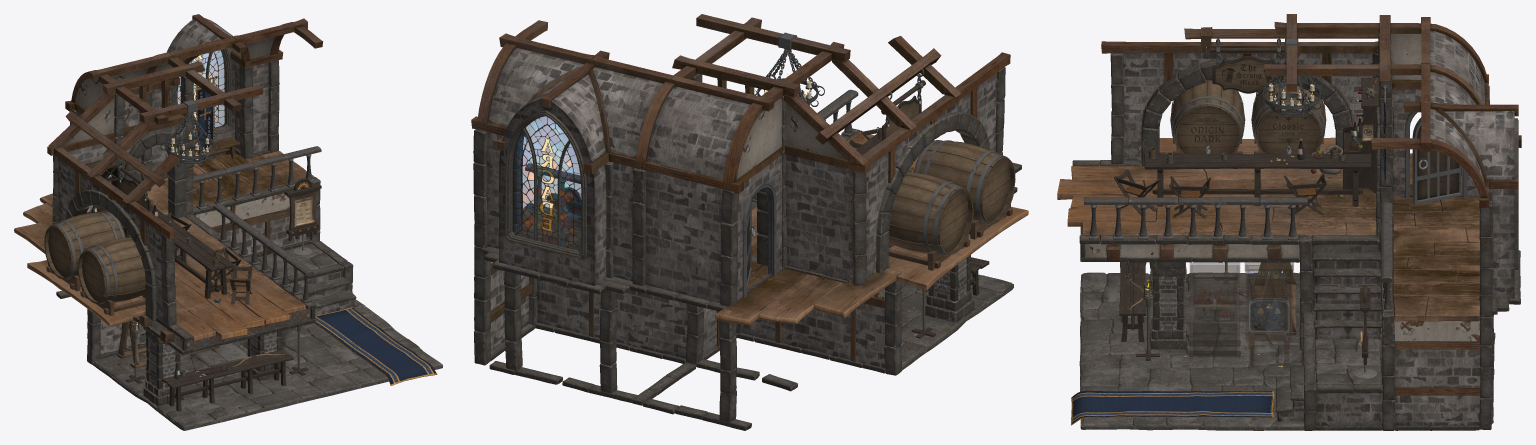
3 views of the same model, side by side, from view 1: azimuth 30°, elevation 25°; view 2: azimuth 150°, elevation 25°; view 3: azimuth 270°, elevation 25° (orthographic). The views are drawn at different scales.
Visible parts, largest first — view 1: main_walls_64, wood_connectors_68, wood_floor_66, floor_blocks_61, barrels_12, main_bricks_6, railing_60, carpet_10, duck_hunt_table_43, big_border_5, arc_big_1, table_35 (+14 smaller); view 2: main_walls_64, wood_connectors_68, main_bricks_6, barrels_12, wood_floor_66, big_border_5, window_65, window_border_62, arc_big_1, floor_blocks_61, Column.001_8, door_13 (+4 smaller); view 3: main_walls_64, wood_floor_66, floor_blocks_61, wood_connectors_68, main_bricks_6, barrels_12, stairs_63, big_border_5, carpet_10, railing_60, dragon_invaders_3, table_35 (+16 smaller).
Part boxes in pixels (x1,y1,x2,y2): main_walls_64: (58,18,442,430); wood_connectors_68: (47,14,323,349); wood_floor_66: (14,151,314,341); floor_blocks_61: (94,244,441,427); barrels_12: (44,211,146,315); main_bricks_6: (52,60,353,364); railing_60: (193,146,321,302); carpet_10: (314,307,437,385); duck_hunt_table_43: (161,349,293,411); big_border_5: (56,182,347,354); arc_big_1: (65,189,156,320); table_35: (129,204,233,298); main_walls_64: (486,48,1013,370); wood_connectors_68: (471,14,1010,361); main_bricks_6: (473,67,1005,422); barrels_12: (888,140,1015,270); wood_floor_66: (522,131,1028,325); big_border_5: (483,128,1021,430); window_65: (512,116,581,250); window_border_62: (505,110,586,258); arc_big_1: (876,112,989,272); floor_blocks_61: (901,273,1012,366); Column.001_8: (925,255,974,322); door_13: (742,183,776,297); main_walls_64: (1079,30,1514,430); wood_floor_66: (1057,137,1480,321); floor_blocks_61: (1080,272,1381,427); wood_connectors_68: (1101,14,1521,395); main_bricks_6: (1110,34,1494,430); barrels_12: (1170,80,1326,168); stairs_63: (1276,252,1381,421); big_border_5: (1072,160,1520,430); carpet_10: (1071,390,1274,425); railing_60: (1084,197,1392,312); dragon_invaders_3: (1189,262,1240,358); table_35: (1144,153,1371,206).
Size of the model in its own units: 8 by 6.01 by 8.63.
10 materials, 10 textured.
